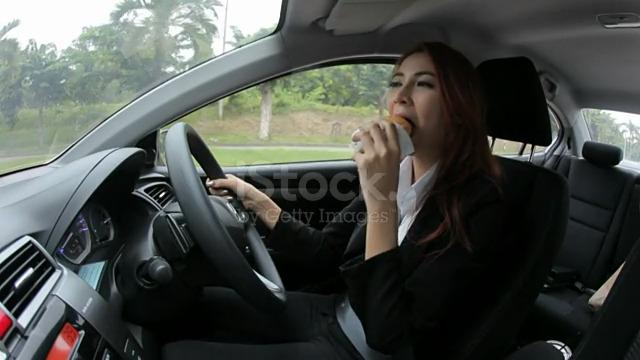Eating: (338, 27, 490, 189)
